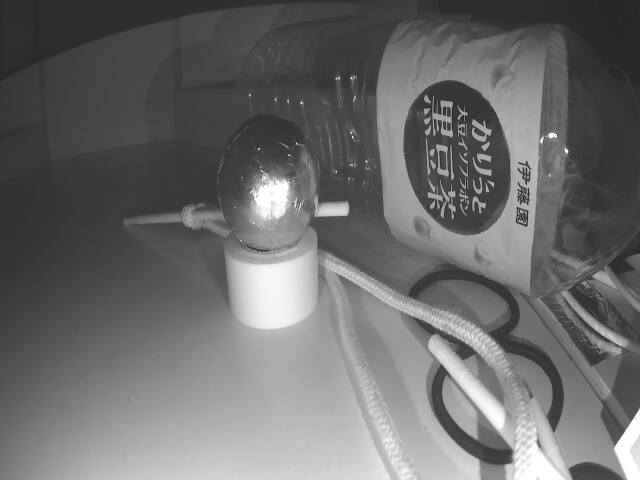Live: (216, 117, 320, 253)
Point: (175, 70, 292, 154), (0, 124, 45, 185)
